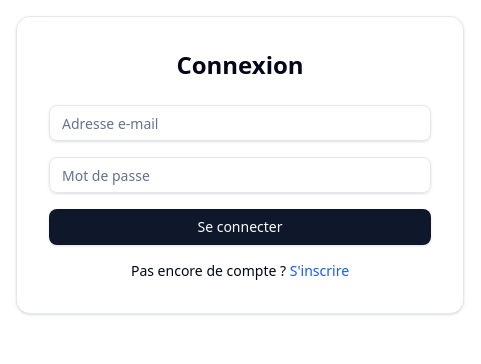
Test: LoginForm › displays an API error without storing a token
In the field with placeholder "Adresse e-mail": (240, 123) [49,105,431,141], type "alice@example.test"
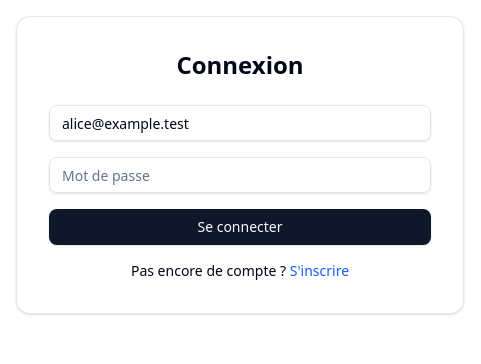
In the password field with placeholder "Mot de passe": (240, 175) [49,157,431,193], type "WrongPassword123!"
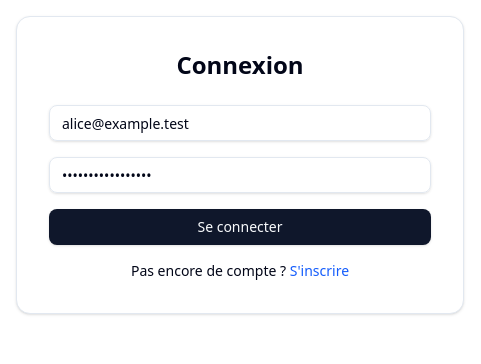
Click the button "Se connecter": (240, 227) [49,209,431,245]
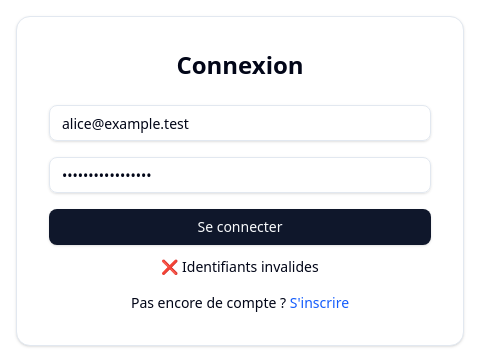
expect the text "❌ Identifiants invalides" is shown: met, box [161,257,319,276]
